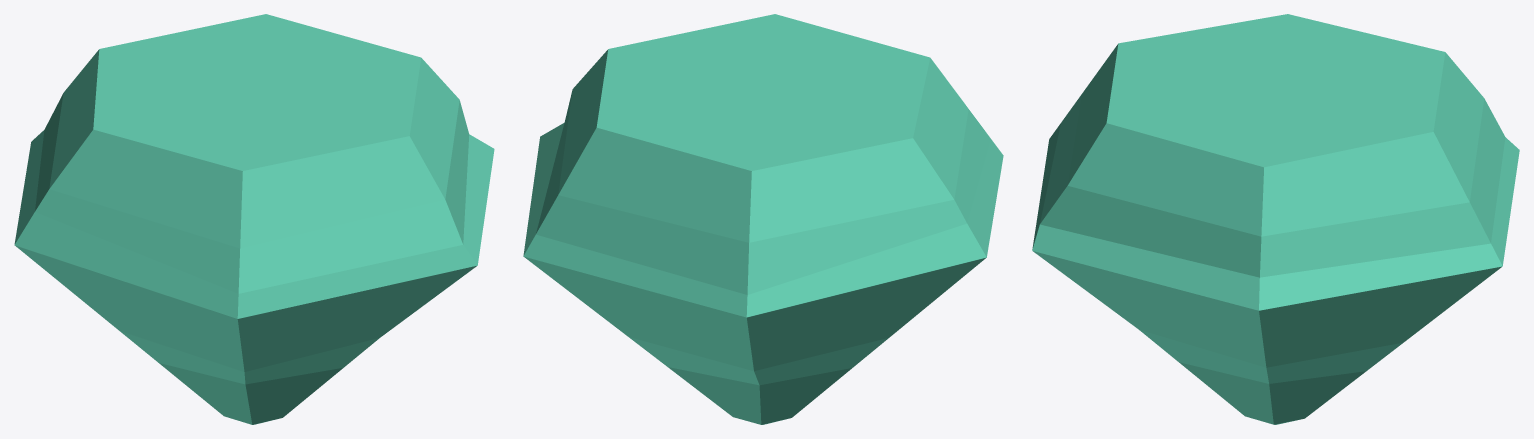
File: crystal5-damaged-c5af1a608a.glb
3 views of the same model, side by side, from view 1: azimuth 30°, elevation 25°; view 2: azimuth 150°, elevation 25°; view 3: azimuth 270°, elevation 25° (orthographic).
Visible parts, largest first — view 1: Crystal5_Damaged.obj; view 2: Crystal5_Damaged.obj; view 3: Crystal5_Damaged.obj.
Part boxes in pixels (x1,y1,x2,y2): Crystal5_Damaged.obj: (14,14,494,424); Crystal5_Damaged.obj: (523,14,1003,424); Crystal5_Damaged.obj: (1032,14,1519,424).
Size of the model in its own units: 0.6292 by 0.4311 by 0.5646.
